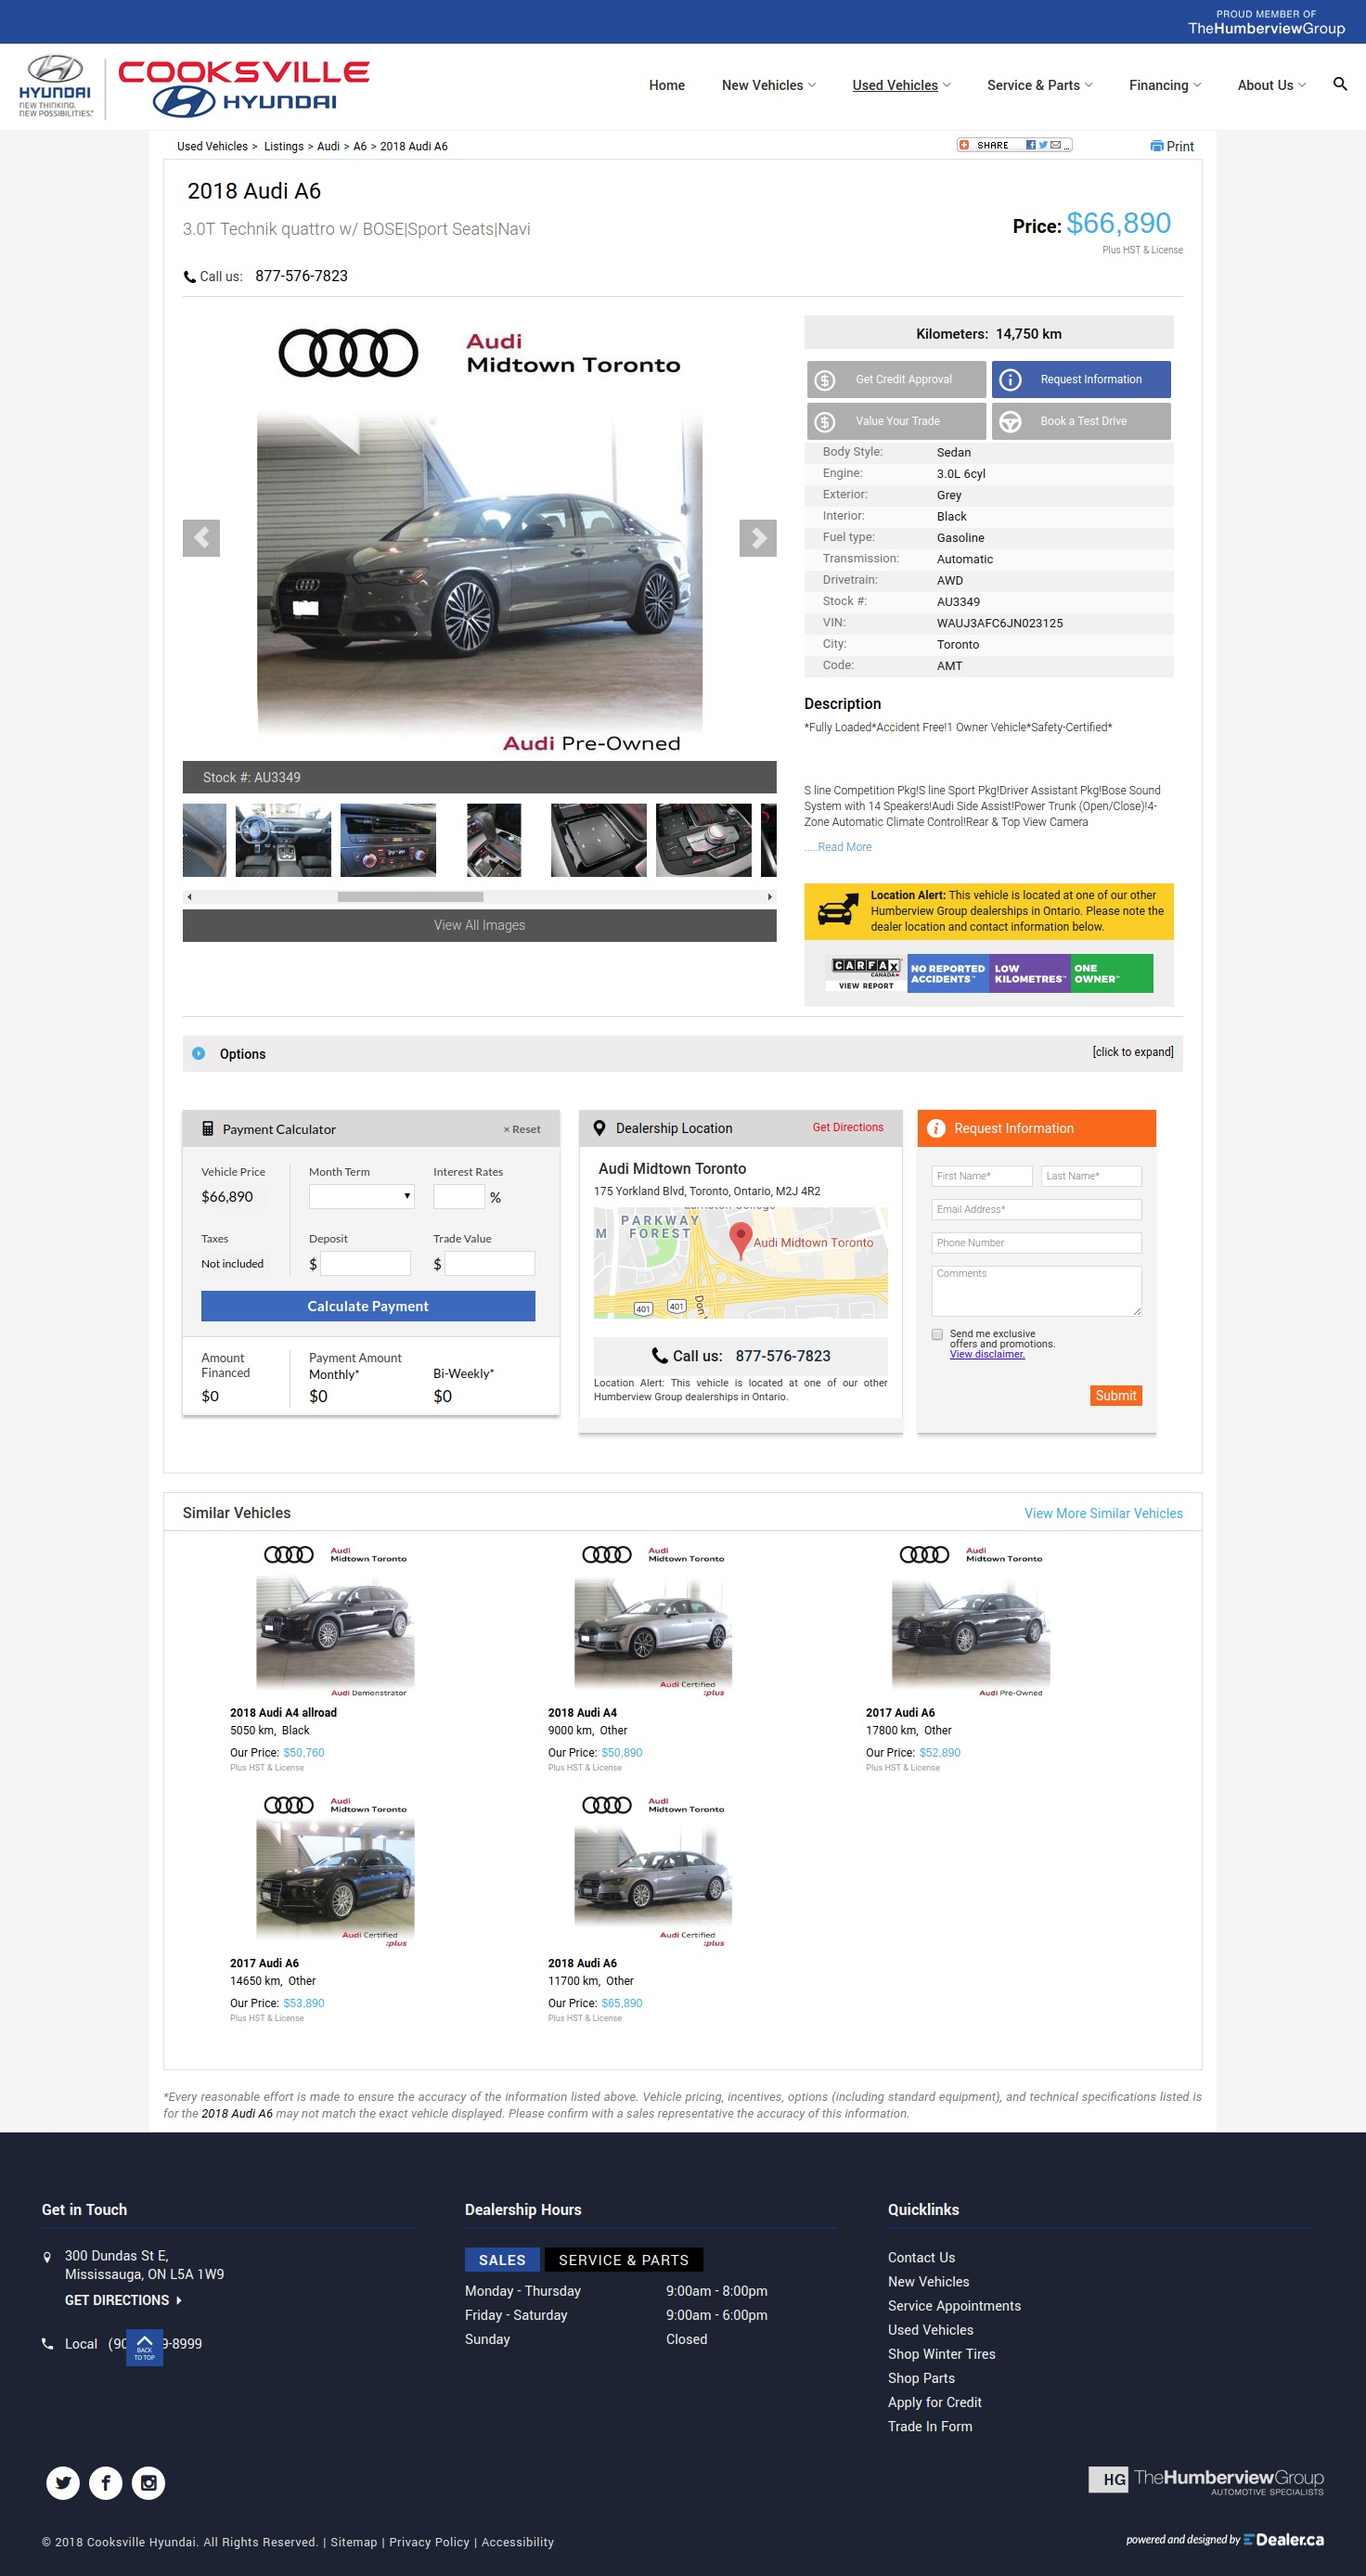car: (768, 894, 773, 901)
